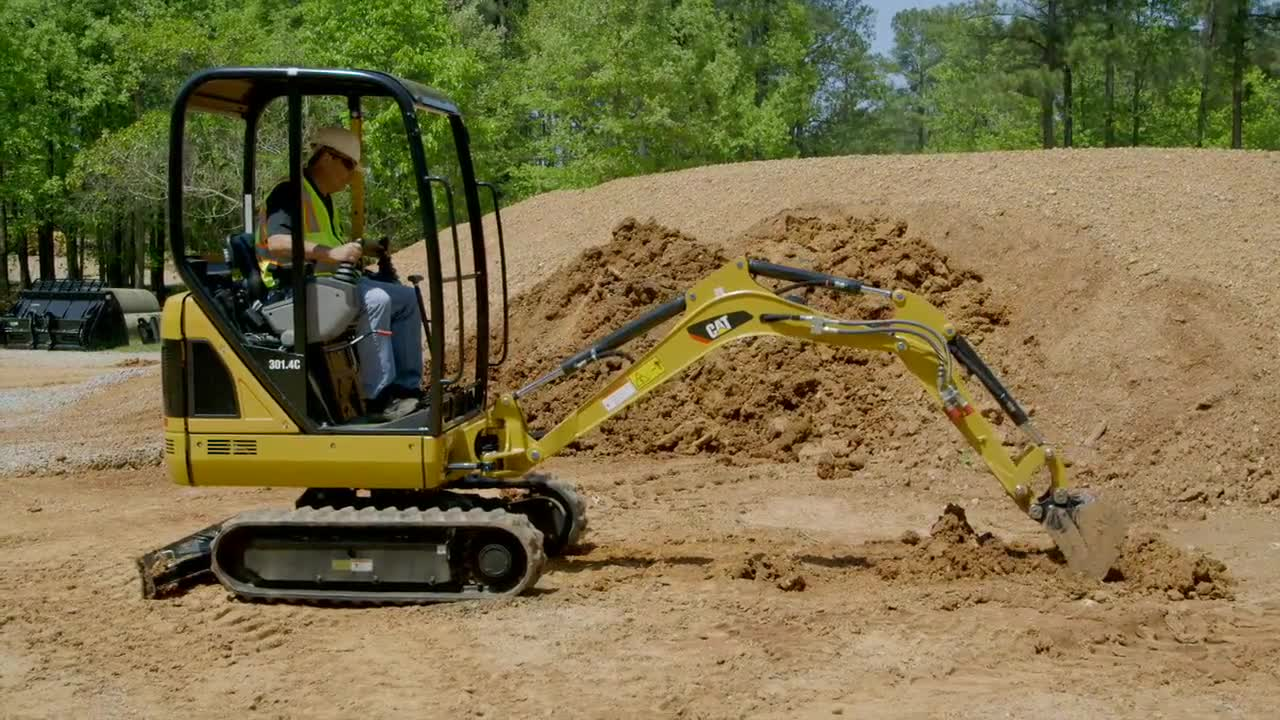attachment-bucket: (1019, 484, 1132, 583)
cabin: (147, 68, 498, 484)
forearm: (889, 288, 1067, 521)
upperarm: (499, 275, 893, 474)
wheelbase: (199, 485, 593, 608)
